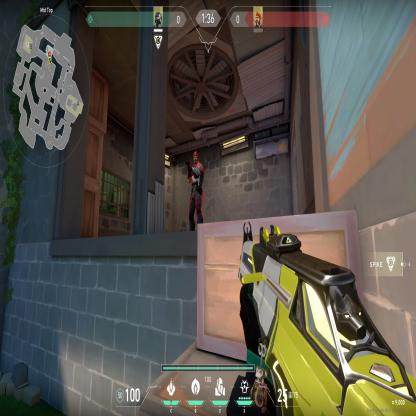enemy: (187, 147, 203, 224)
